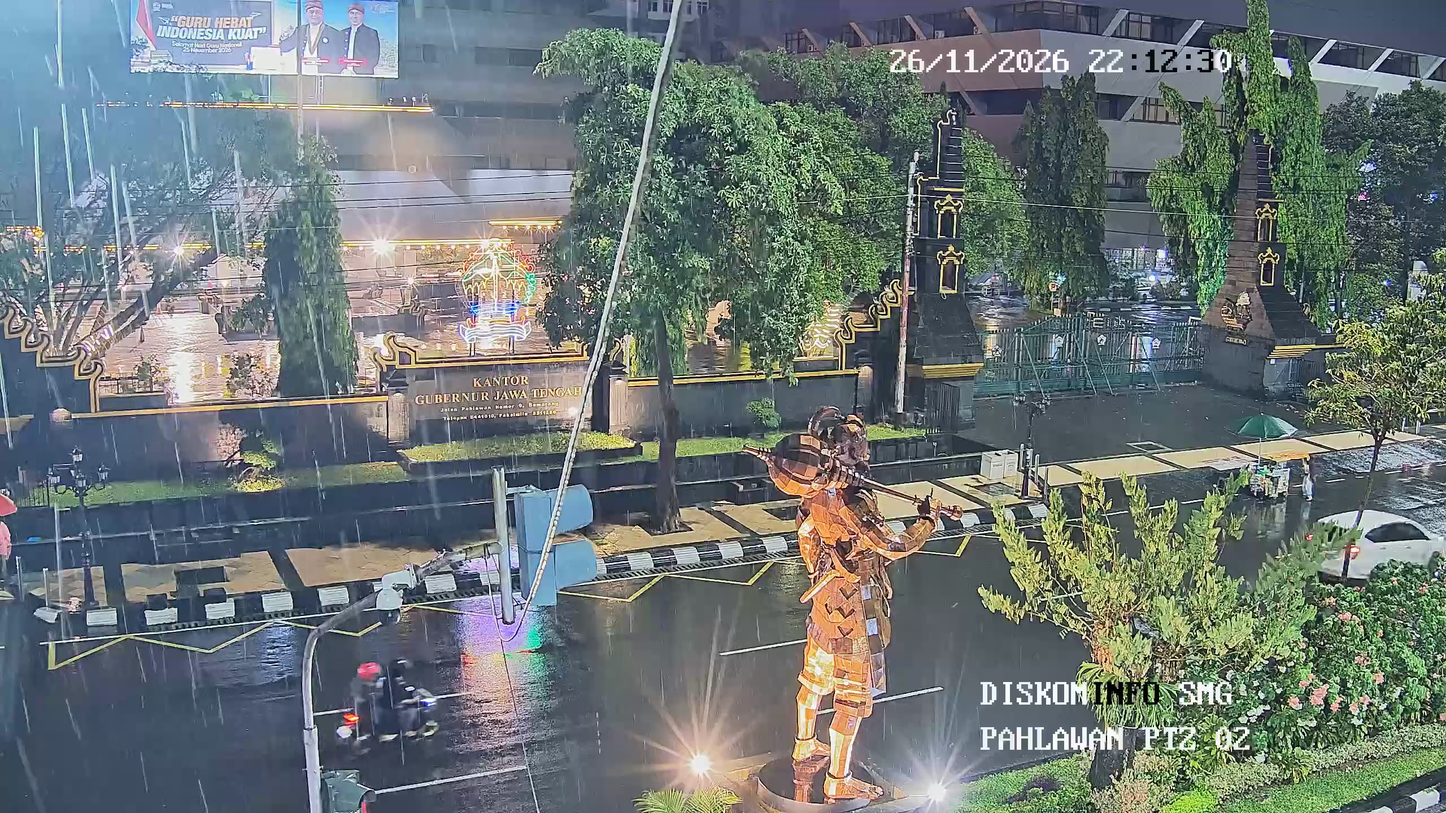Gerobak: (1236, 451, 1294, 500)
